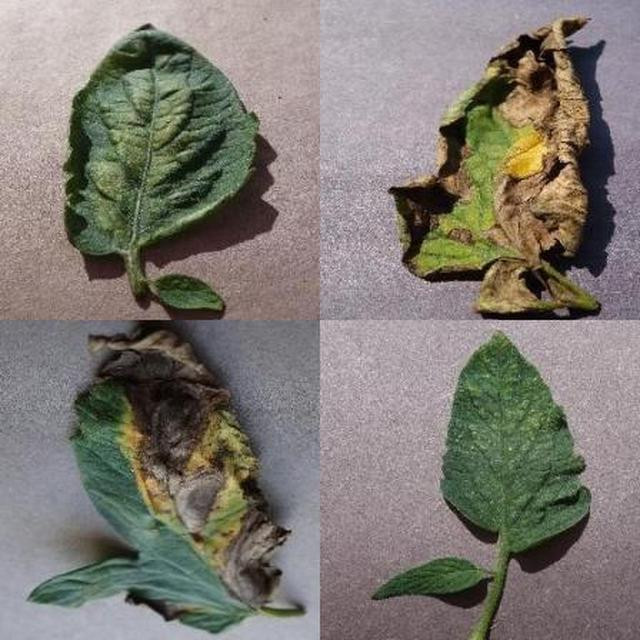Spider Mites Leaf: (218, 201, 640, 640)
